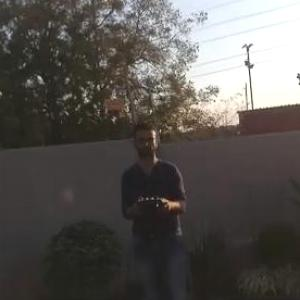follow: (116, 114, 193, 299)
